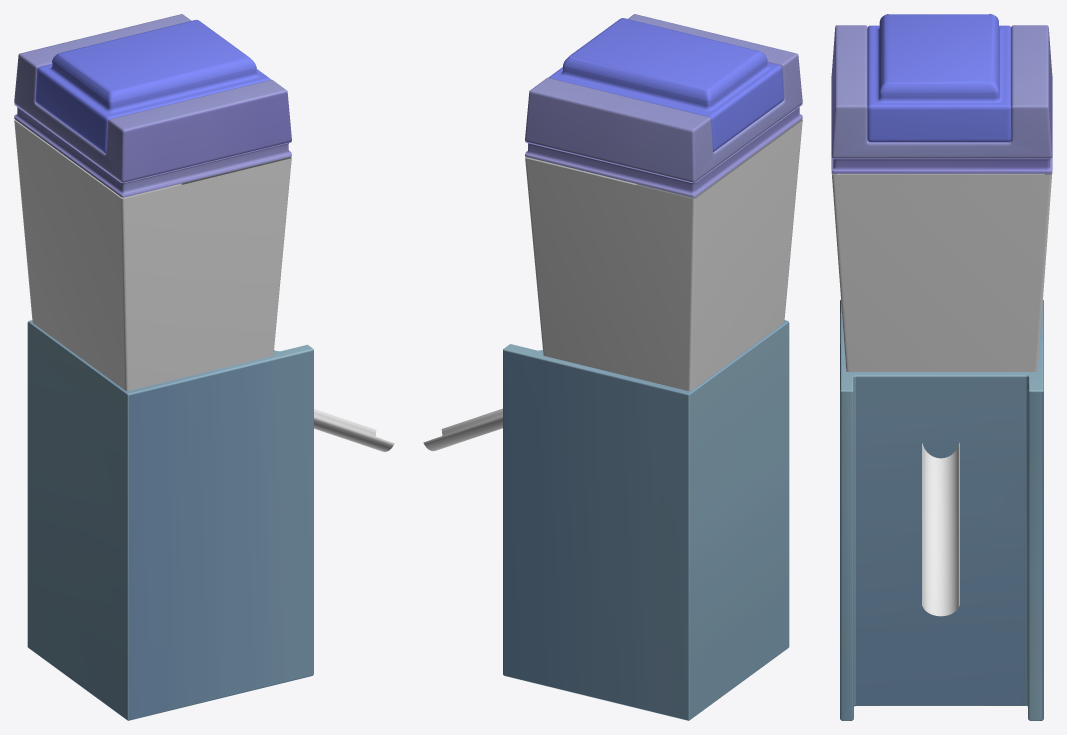
Rendered from icemachine.fbx.
3 renders of one model, left to right at view 1: azimuth 30°, elevation 25°; view 2: azimuth 150°, elevation 25°; view 3: azimuth 270°, elevation 25°, orthographic.
Visible parts, largest first — view 1: Cube.018, Cube.019, Cube.021, Cube.020, Cylinder; view 2: Cube.018, Cube.019, Cube.021, Cube.020, Cylinder; view 3: Cube.018, Cube.019, Cube.020, Cube.021, Cylinder.
Boxes of the visible parts, x1,y1,x2,y2 form: Cube.018: (27, 320, 313, 720); Cube.019: (14, 119, 291, 391); Cube.021: (14, 14, 291, 197); Cube.020: (35, 20, 270, 153); Cylinder: (314, 409, 394, 451); Cube.018: (503, 320, 789, 720); Cube.019: (525, 119, 802, 391); Cube.021: (525, 14, 802, 197); Cube.020: (548, 18, 783, 151); Cylinder: (423, 408, 502, 451); Cube.018: (840, 300, 1043, 720); Cube.019: (831, 173, 1052, 371); Cube.020: (867, 14, 1011, 142); Cube.021: (831, 25, 1052, 173); Cylinder: (922, 443, 959, 616).
Size of the model in its own units: 1956 by 3604 by 1170.
